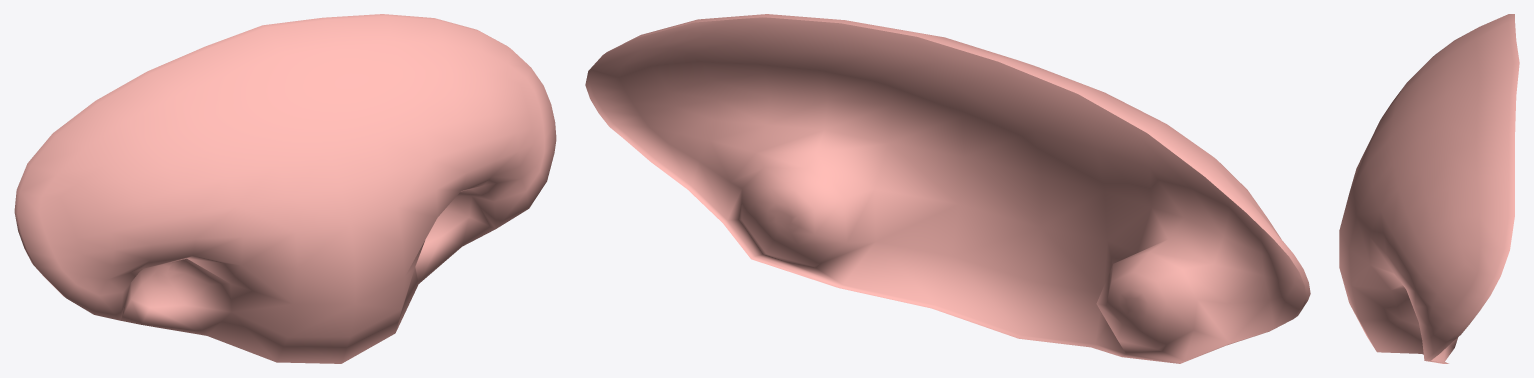
File: nose03.glb
The picture shows the model from 3 angles, left to right: view 1: azimuth 30°, elevation 25°; view 2: azimuth 150°, elevation 25°; view 3: azimuth 270°, elevation 25°; orthographic projection. The views are drawn at different scales.
Parts seen in each view (by area): view 1: Nase; view 2: Nase; view 3: Nase.
Part boxes in pixels (x1,y1,x2,y2): Nase: (14, 14, 556, 363); Nase: (585, 14, 1310, 363); Nase: (1339, 14, 1519, 363).
Bounding box in the file's own units: 0.1284 × 0.0651 × 0.039.
